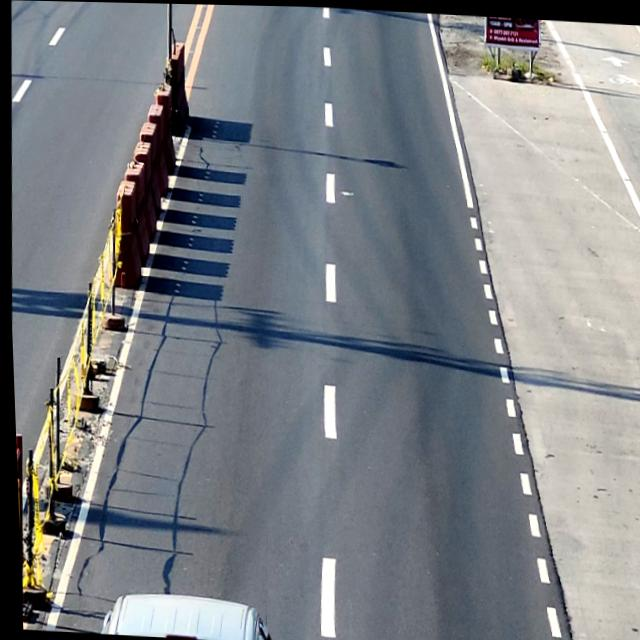Car: (93, 589, 270, 640)
